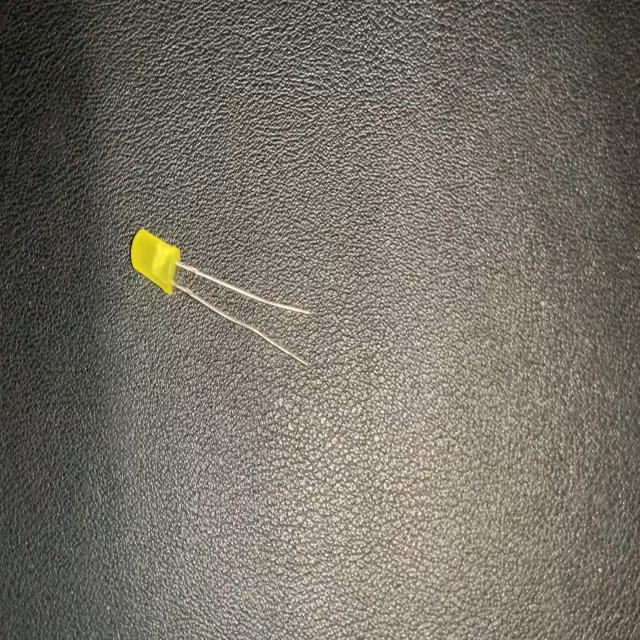LED: (130, 229, 309, 366)
